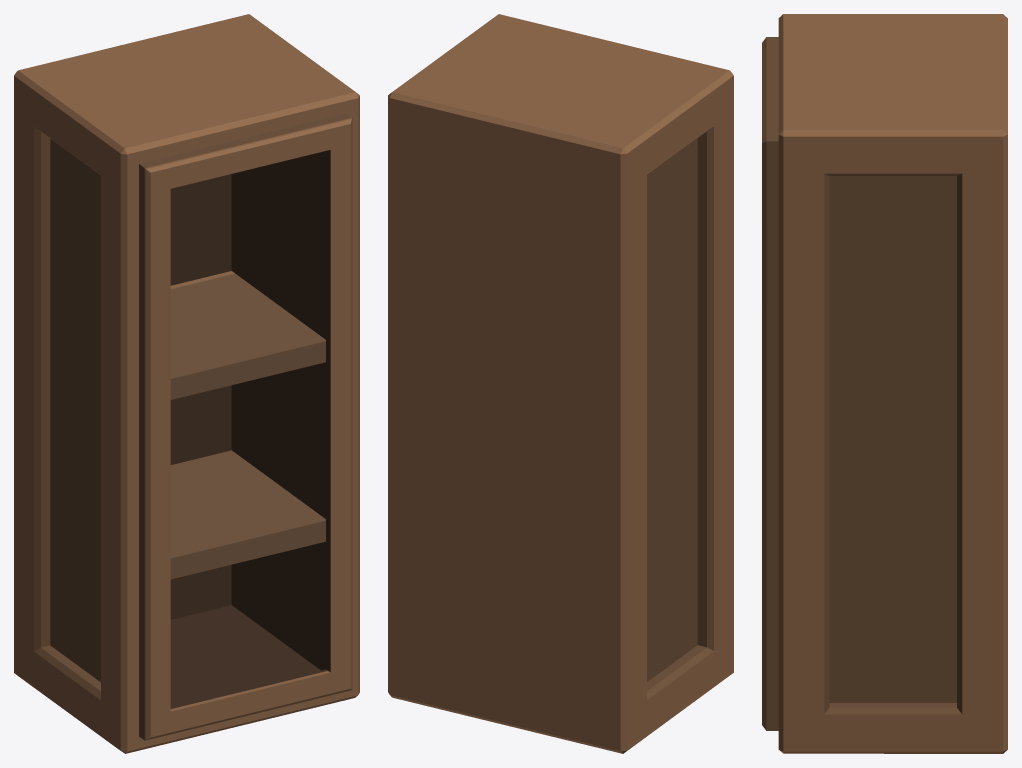
Rendered from SingleHangingCabinetRight.glb.
The picture shows the model from 3 angles, left to right: view 1: azimuth 30°, elevation 25°; view 2: azimuth 150°, elevation 25°; view 3: azimuth 270°, elevation 25°; orthographic projection. The views are drawn at different scales.
Parts seen in each view (by area): view 1: Single Hanging Cabinet Right; view 2: Single Hanging Cabinet Right; view 3: Single Hanging Cabinet Right.
Part boxes in pixels (<box>): Single Hanging Cabinet Right: <box>14,14,359,753</box>; Single Hanging Cabinet Right: <box>388,14,733,753</box>; Single Hanging Cabinet Right: <box>762,14,1007,753</box>.
Bounding box in the file's own units: 0.62 × 1.5 × 0.5358.
Materials: 1 (1 with a texture image).
